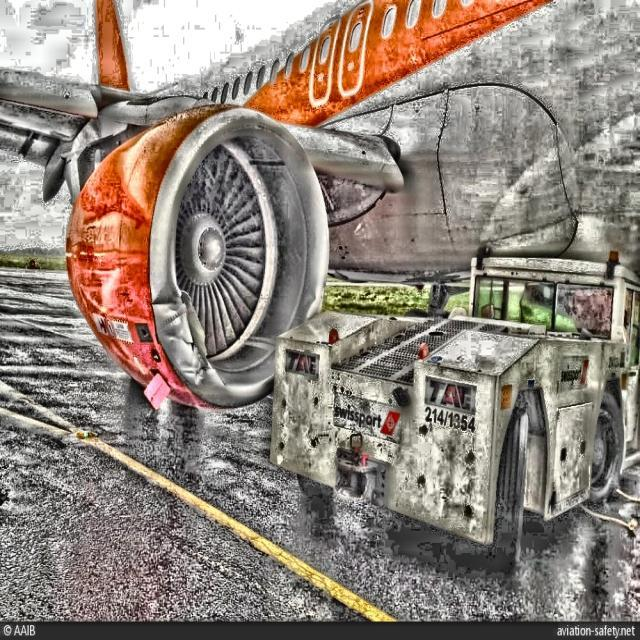crack: (180, 296, 212, 367)
dent: (157, 294, 187, 359), (294, 282, 329, 321), (176, 359, 210, 383)
